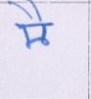ai_matra: (8, 0, 48, 22)
